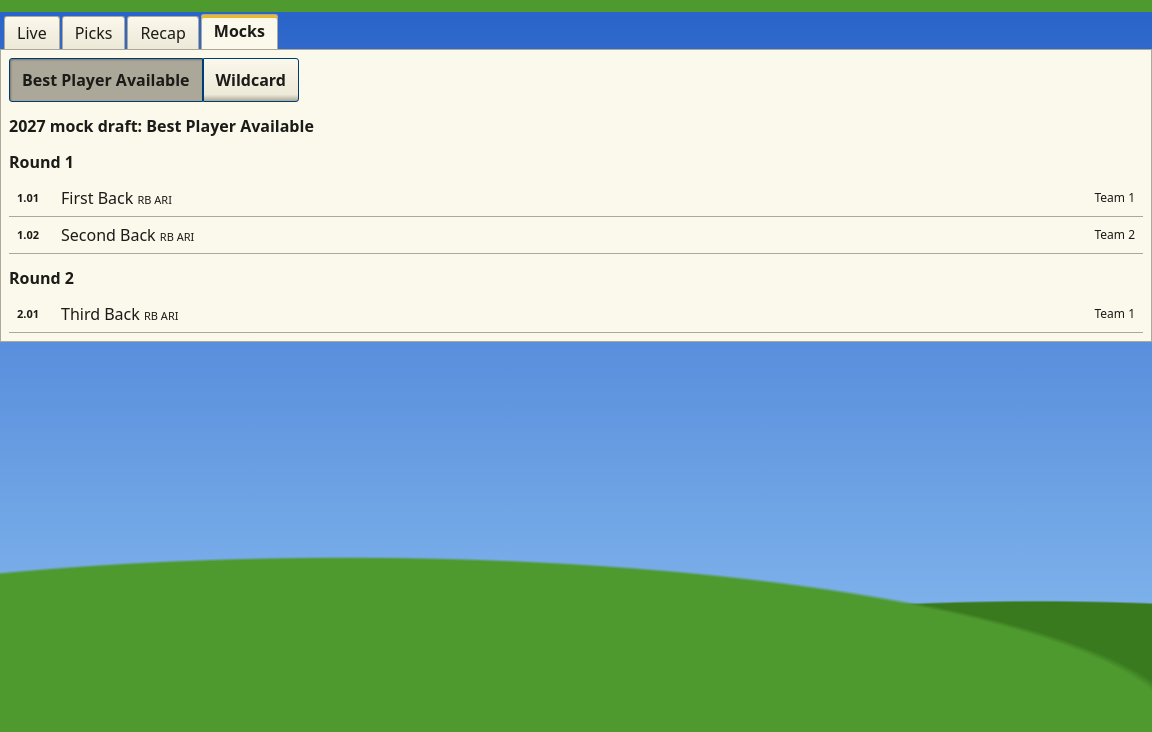
Test: Draft History: Recap and Mocks › shows each mock style's picks by round
The image size is (1152, 732).
Check: the list items read "1.01First Back RB ARITeam 1", "1.02Second Back RB ARITeam 2", in this order, box [9, 180, 1143, 217]; [9, 217, 1143, 254]
What coordinates should you click on to do the following:
click the button "Wildcard"
I would click on:
 (251, 80)
Its box is [202, 58, 299, 102].
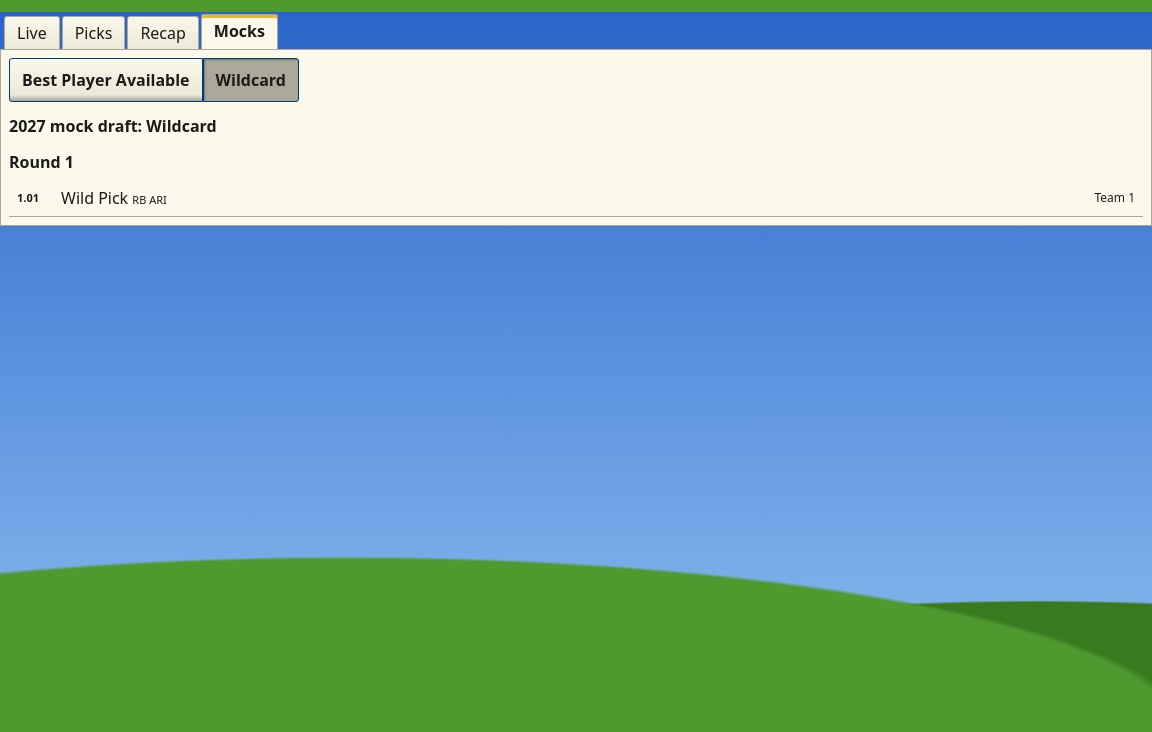
Check: the text "Wild Pick" is shown, box [61, 187, 128, 209]
